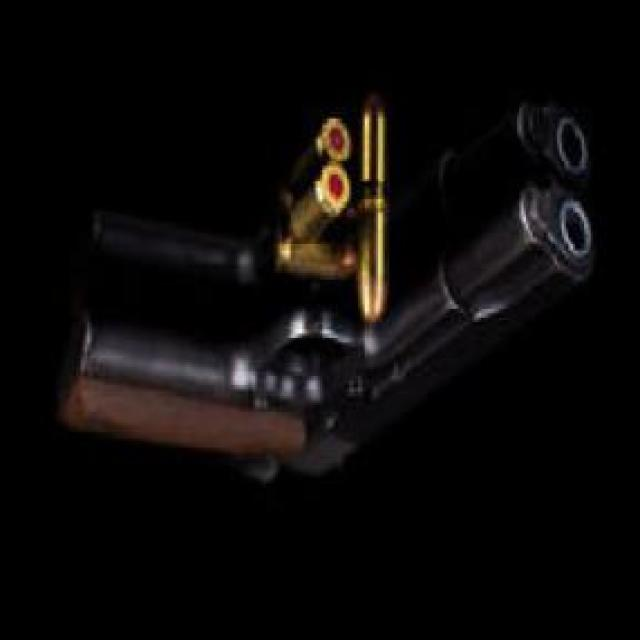pistol: (50, 178, 593, 488)
